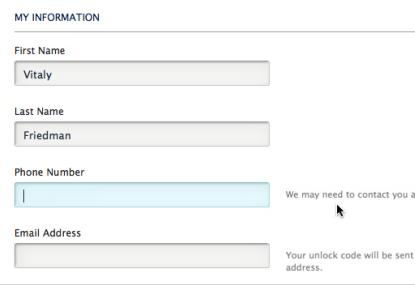field: (12, 239, 270, 270), (12, 119, 272, 148), (12, 180, 271, 208), (13, 59, 271, 87)
field_with_label: (10, 167, 273, 211), (10, 228, 271, 272), (9, 107, 273, 150), (12, 46, 273, 89)
